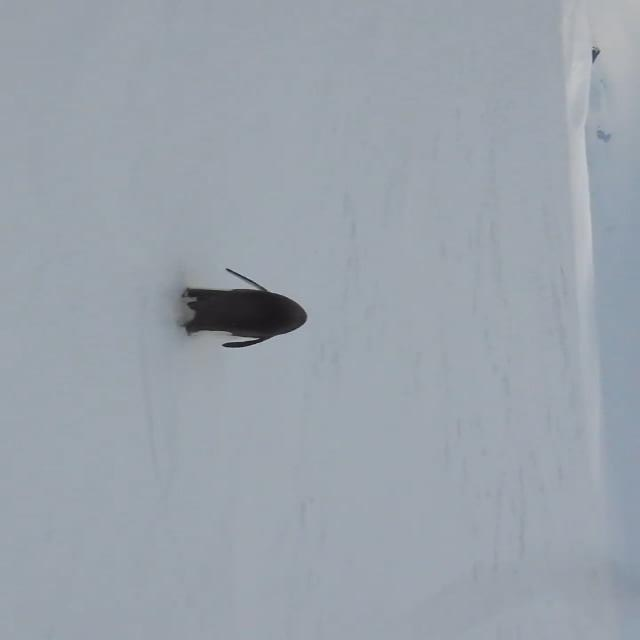penguin: (177, 268, 308, 348)
